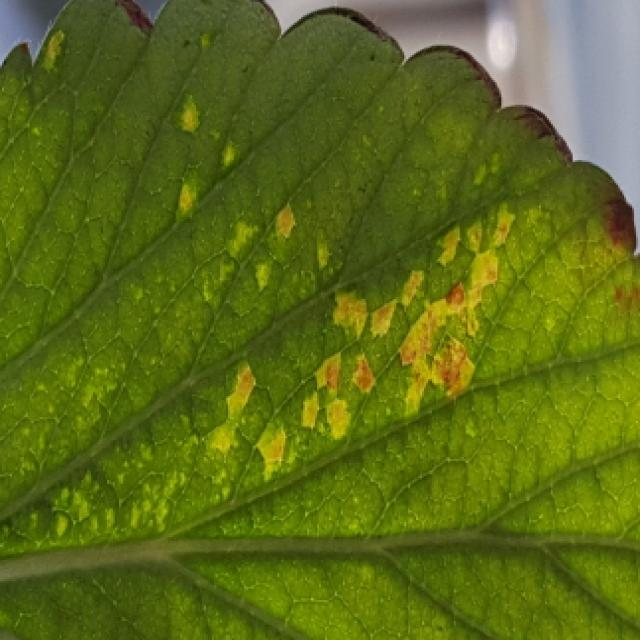Angular Leafspot: (0, 80, 571, 568)
